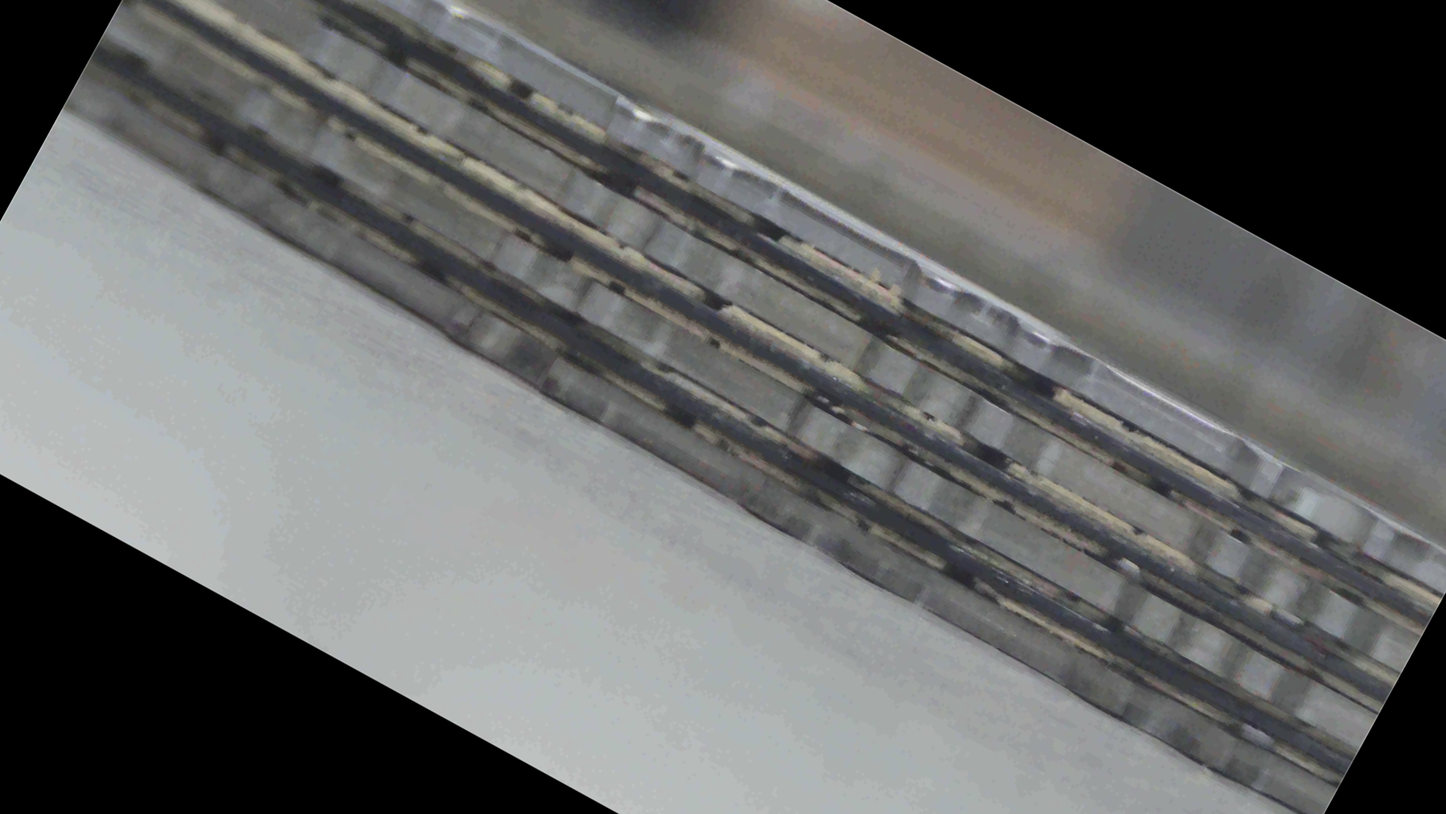Black metal plate: (68, 79, 1337, 814)
shiney metal plate: (31, 183, 1437, 568), (0, 498, 1442, 561), (4, 172, 1445, 230)
spacer: (15, 253, 1446, 415), (0, 388, 1445, 436), (15, 226, 1445, 265)
